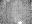person: (16, 19, 21, 23)
